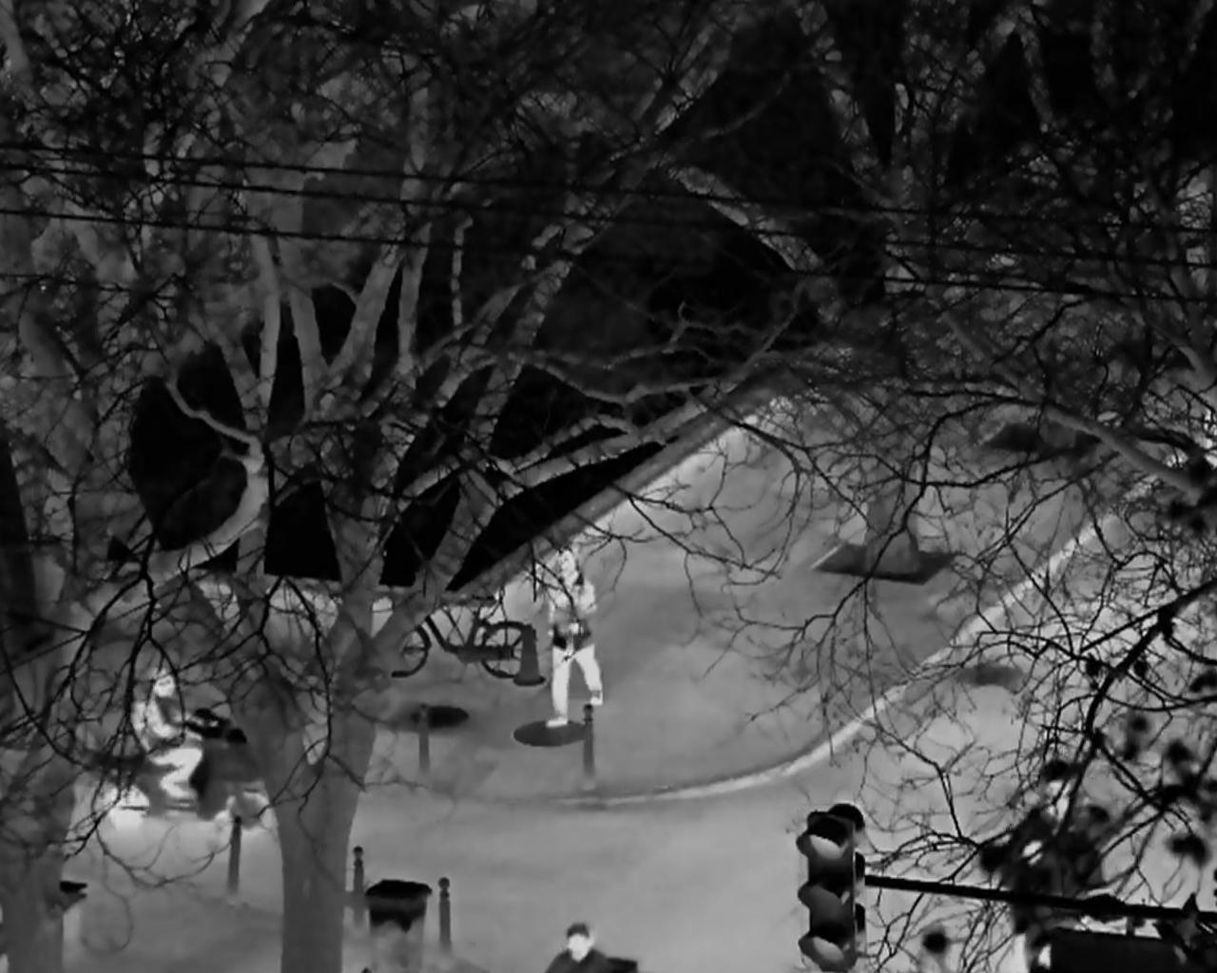person: (548, 548, 605, 727), (138, 668, 202, 799), (542, 917, 634, 973)
